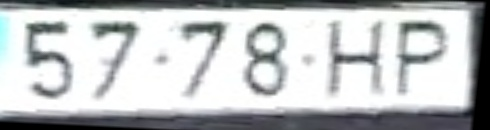5: (22, 19, 77, 103)
7: (87, 20, 146, 103), (175, 21, 233, 102)
8: (242, 19, 297, 104)
H: (323, 18, 392, 99)
P: (395, 18, 457, 100)
